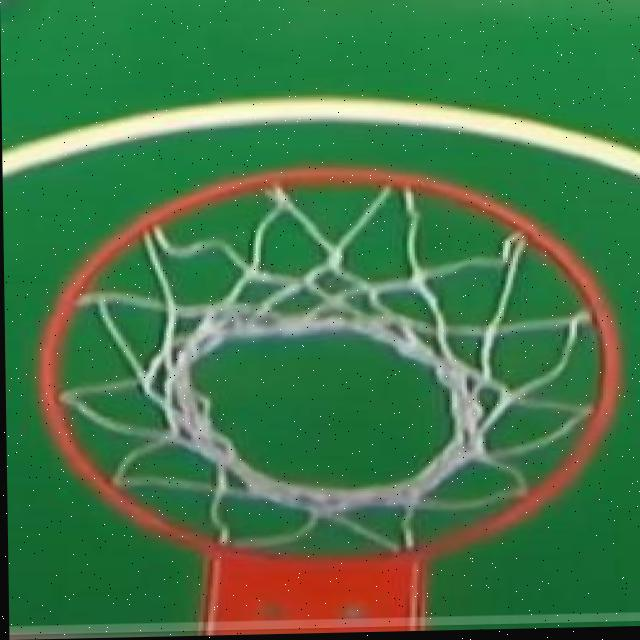hoop: (3, 165, 640, 584)
